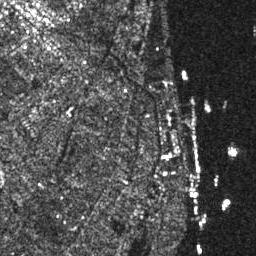ship: (220, 197, 232, 212), (203, 101, 212, 114), (181, 68, 189, 82), (196, 243, 203, 254)
